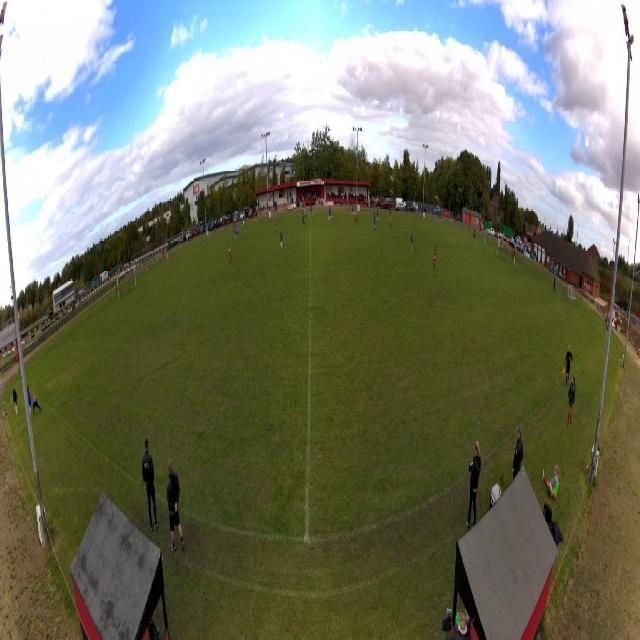ball: (216, 231, 217, 235)
player: (279, 227, 285, 251), (228, 243, 233, 267), (328, 205, 334, 223), (433, 244, 437, 271), (409, 228, 413, 252), (309, 203, 314, 219), (301, 207, 305, 226), (354, 205, 358, 224), (236, 224, 240, 243), (274, 216, 278, 234), (376, 205, 380, 223), (373, 211, 376, 231), (259, 209, 263, 224), (351, 203, 355, 217), (389, 210, 392, 228), (235, 225, 238, 242), (483, 235, 486, 252), (371, 202, 374, 218), (240, 217, 244, 229), (304, 204, 307, 218), (233, 225, 236, 239), (166, 253, 169, 267), (232, 220, 234, 227)
